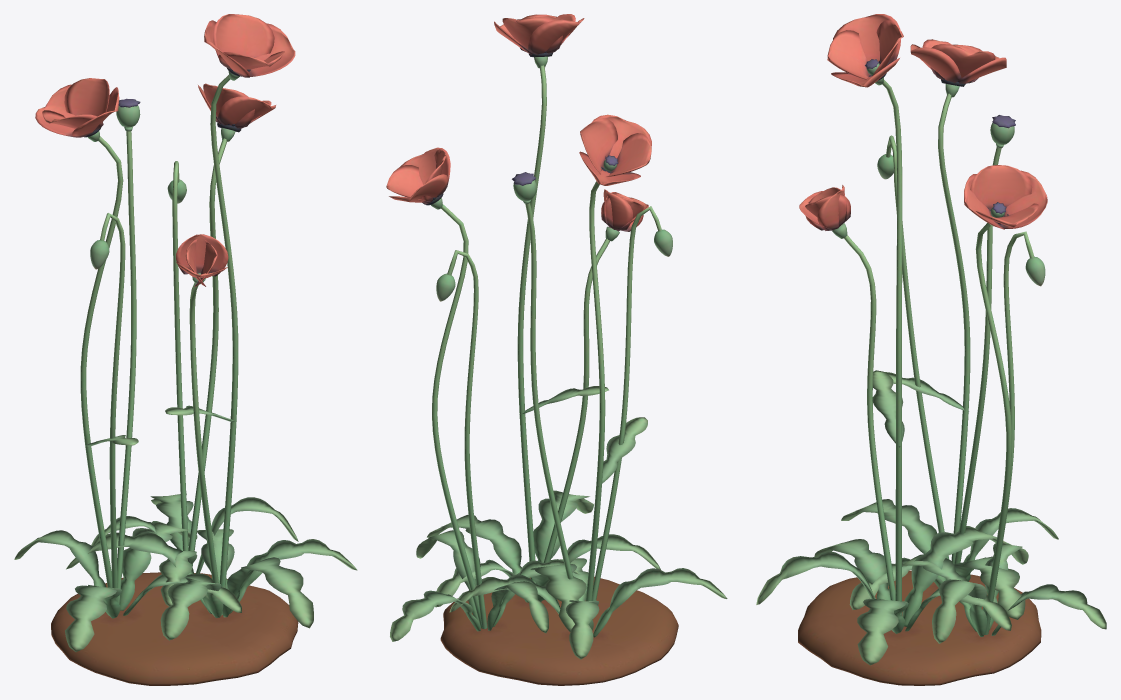
Rendered from poppy.glb.
The picture shows the model from 3 angles, left to right: view 1: azimuth 30°, elevation 25°; view 2: azimuth 150°, elevation 25°; view 3: azimuth 270°, elevation 25°; orthographic projection. The views are drawn at different scales.
Parts seen in each view (by area): view 1: poppy.001; view 2: poppy.001; view 3: poppy.001.
Part boxes in pixels (x1=…): poppy.001: x1=14, y1=14, x2=357, y2=685; poppy.001: x1=386, y1=14, x2=727, y2=685; poppy.001: x1=756, y1=14, x2=1106, y2=685.
Size of the model in its own units: 0.5029 by 1 by 0.5079.
Materials: 1 (1 with a texture image).
